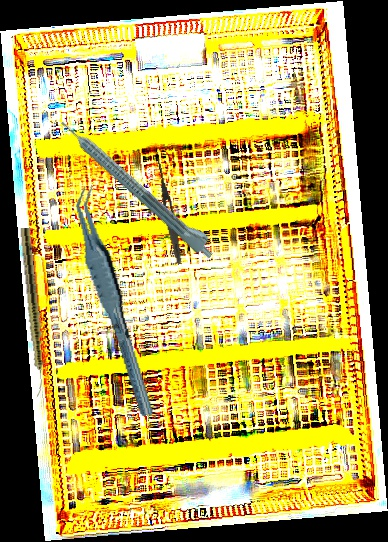Dressing Forceps: (152, 156, 185, 266)
Handpiece: (56, 111, 222, 262), (17, 227, 49, 398)
Tissue Forceps: (71, 181, 155, 422)
